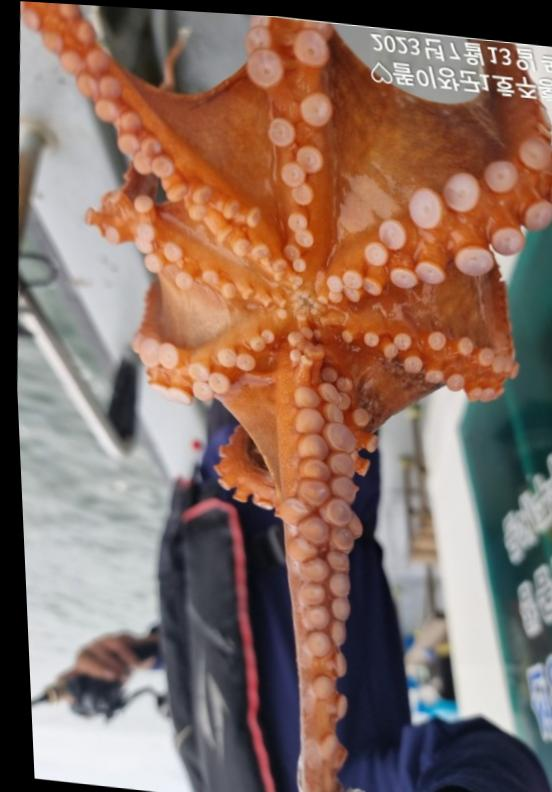Cephalopod: (20, 1, 552, 792)
